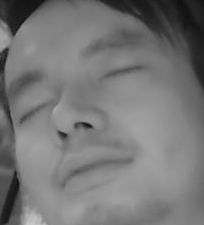blink: (99, 64, 141, 84), (18, 102, 51, 125)
mouth: (56, 142, 133, 191)
